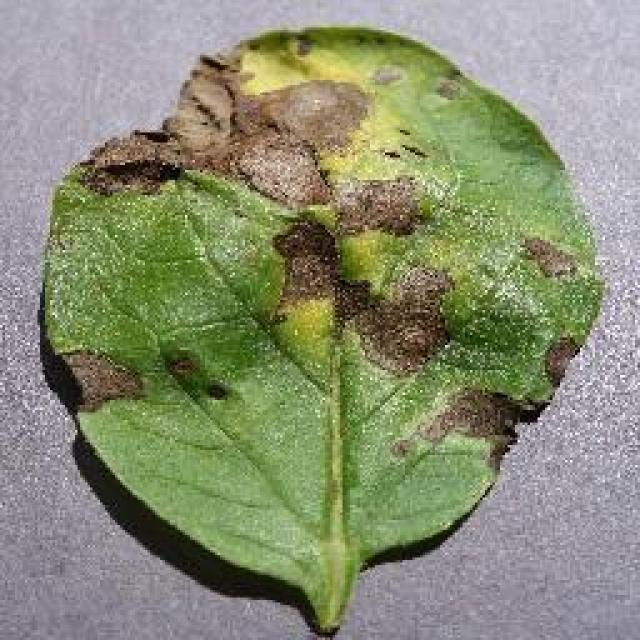green waste: (18, 18, 617, 640)
